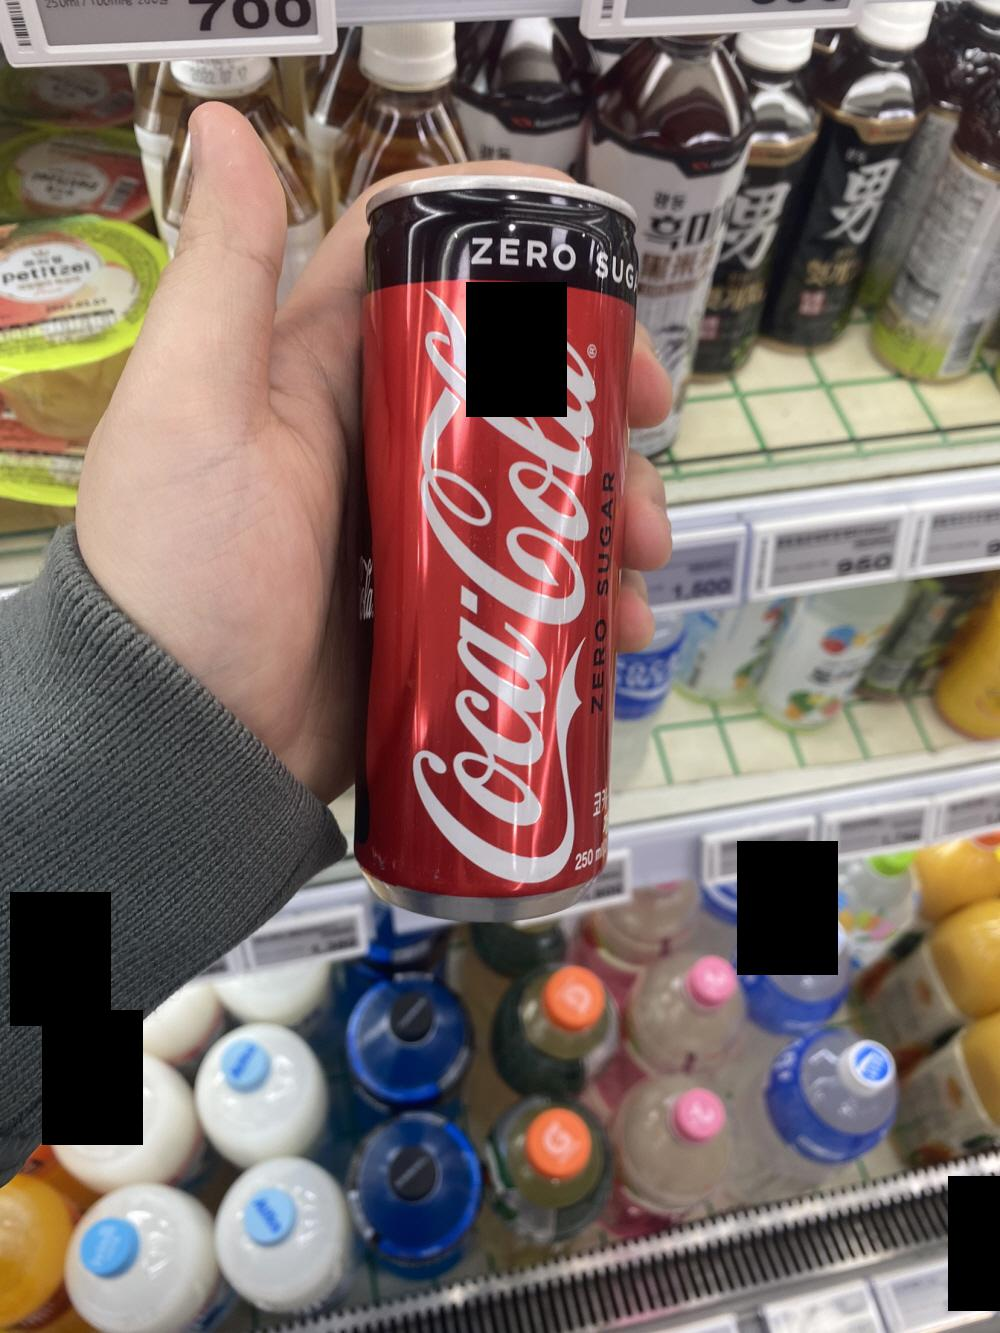cocacola_zero: (348, 167, 640, 926)
